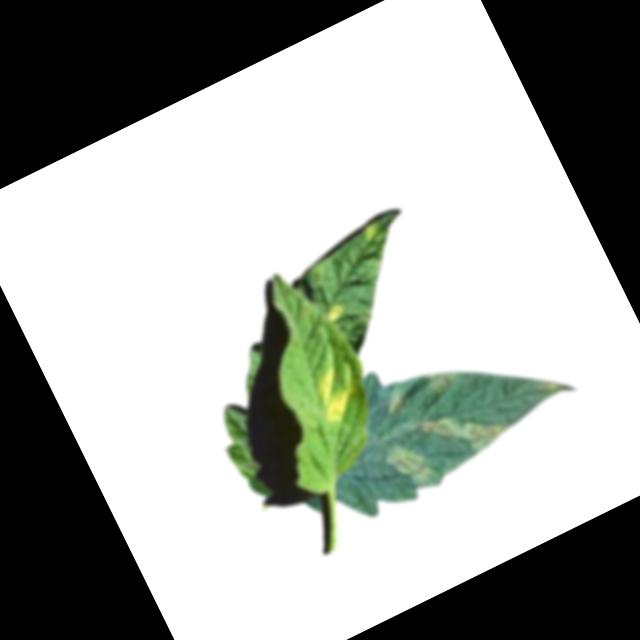Leaf_Mold: (413, 383, 515, 472), (380, 435, 438, 499), (304, 366, 354, 425), (421, 358, 464, 399), (381, 391, 409, 419), (321, 300, 348, 325)
